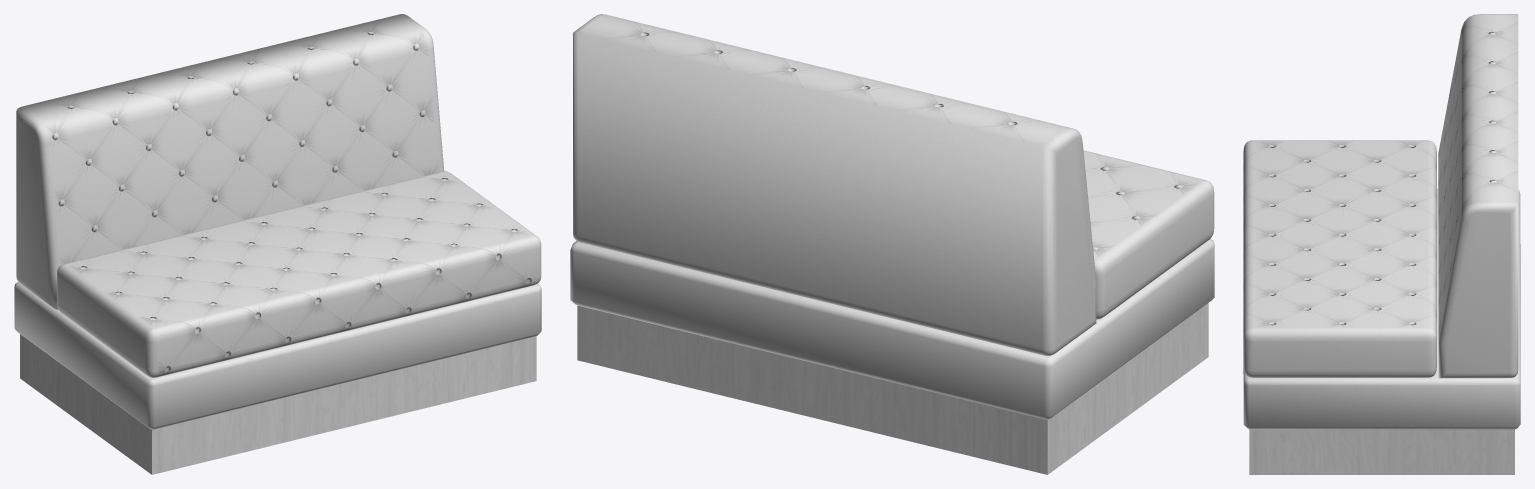
Rendered from Sofa03_1.FBX.
3 views of the same model, side by side, from view 1: azimuth 30°, elevation 25°; view 2: azimuth 150°, elevation 25°; view 3: azimuth 270°, elevation 25° (orthographic). The views are drawn at different scales.
Visible parts, largest first — view 1: Sofa03_1; view 2: Sofa03_1; view 3: Sofa03_1.
Boxes of the visible parts, x1,y1,x2,y2 form: Sofa03_1: (14, 14, 541, 474); Sofa03_1: (570, 14, 1214, 474); Sofa03_1: (1243, 14, 1520, 474).
Size of the model in its own units: 181 by 118 by 109.
